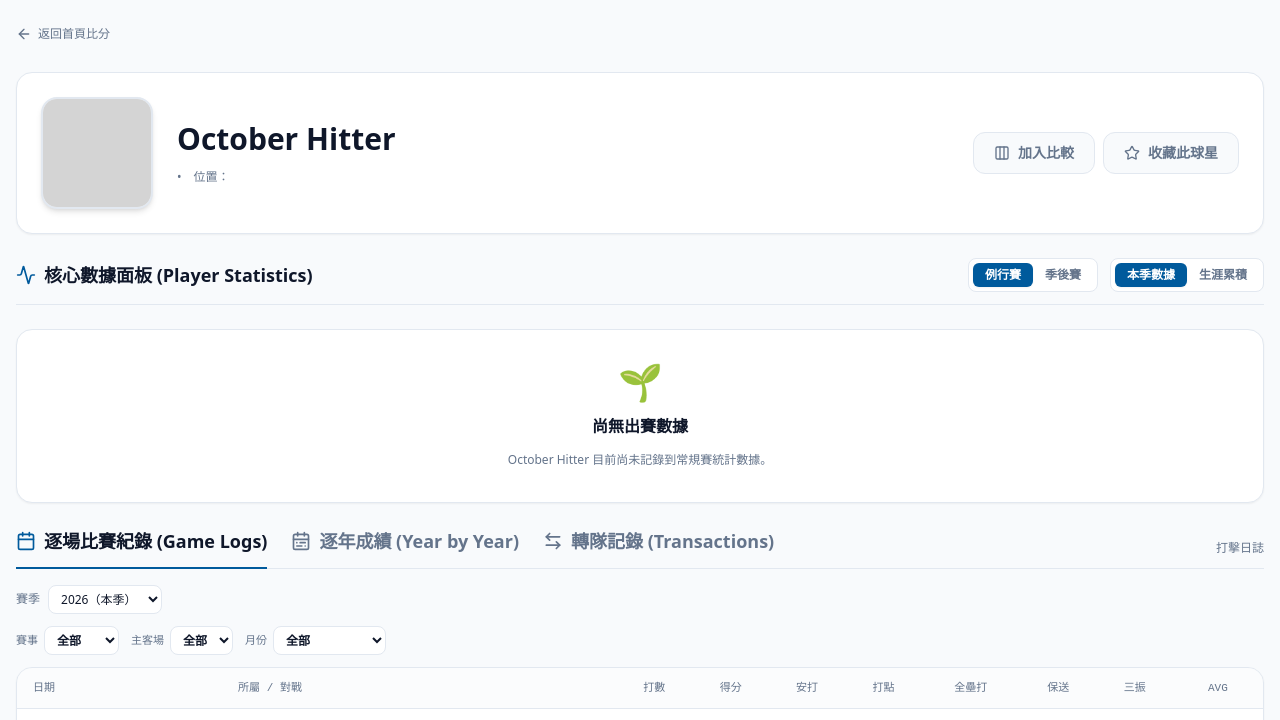
Test: PlayerDetailPage postseason games › goes back to an earlier season’s game log, its postseason included
Select "2025" in the dropdown labelled "賽季" at (105, 599), box [48, 584, 162, 614]
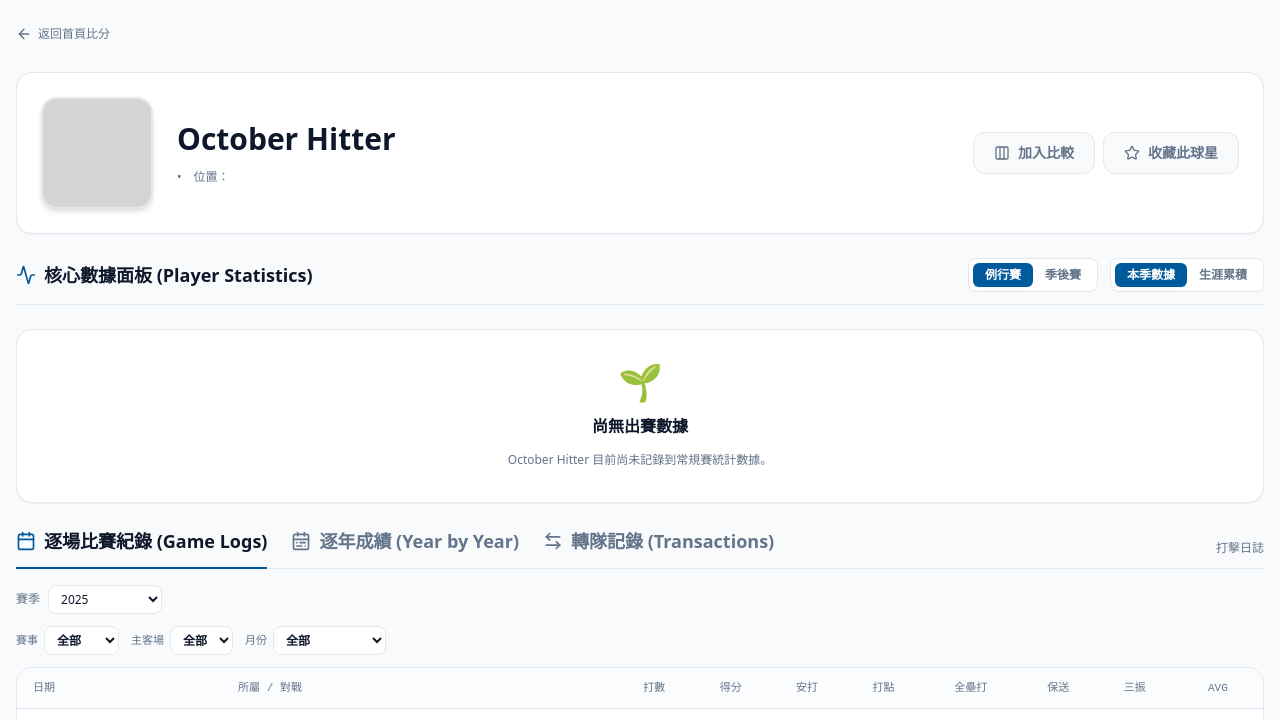
Expected: the text "2026-09-28" is not shown
Select "2026（本季）" in the dropdown labelled "賽季" at (105, 599), box [48, 584, 162, 614]
(page scrolled)
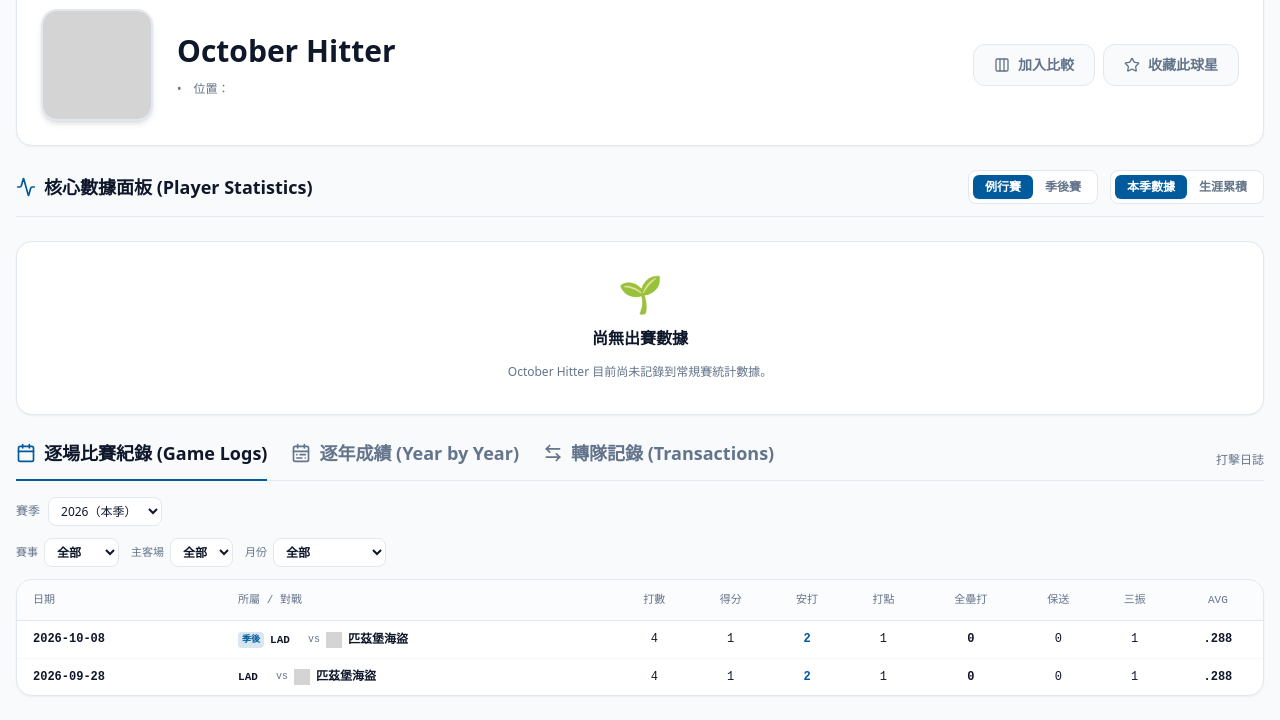
Result: the link "2026-09-28" is shown at [33, 670, 105, 684]
